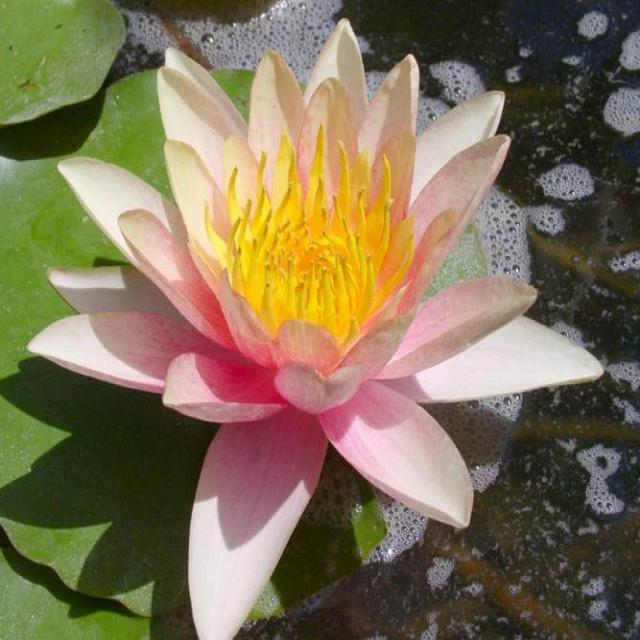water-lily: (26, 17, 604, 639)
